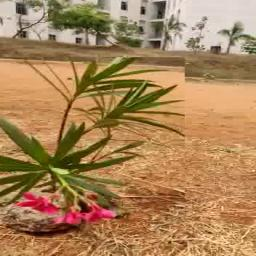OLEANDER: (0, 57, 186, 224)
